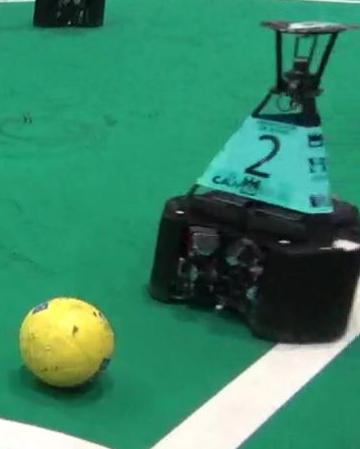robot: (152, 5, 357, 348)
